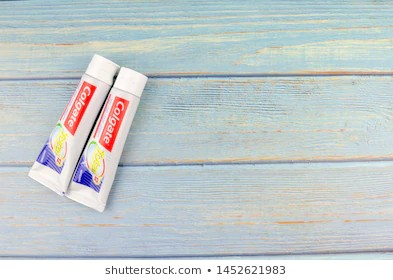colgate-total-150gm: (19, 48, 116, 201), (76, 66, 155, 209)
